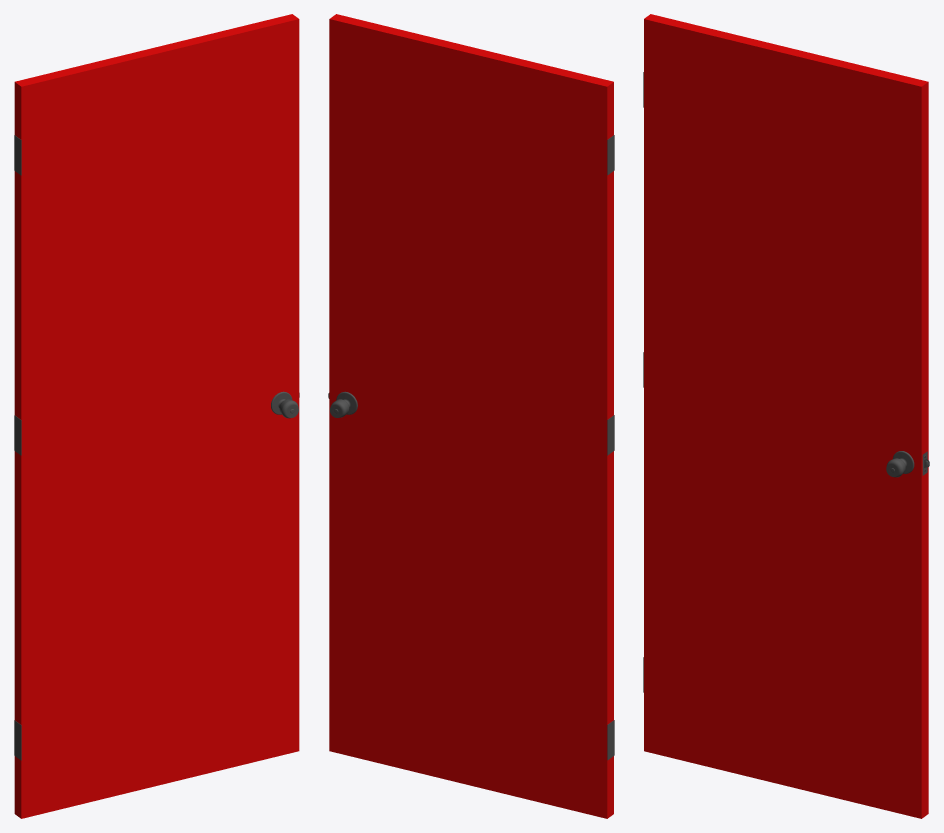
Rendered from SM_LR_Door_1.fbx.
3 views of the same model, side by side, from view 1: azimuth 30°, elevation 25°; view 2: azimuth 150°, elevation 25°; view 3: azimuth 330°, elevation 25° (orthographic).
Visible parts, largest first — view 1: SM_LR_Door_1; view 2: SM_LR_Door_1; view 3: SM_LR_Door_1.
Part boxes in pixels (box(x1,y1,x2,y2)): SM_LR_Door_1: box(14, 14, 299, 818); SM_LR_Door_1: box(328, 14, 614, 818); SM_LR_Door_1: box(643, 14, 929, 818).
Size of the model in its own units: 83.16 by 206 by 15.26.
